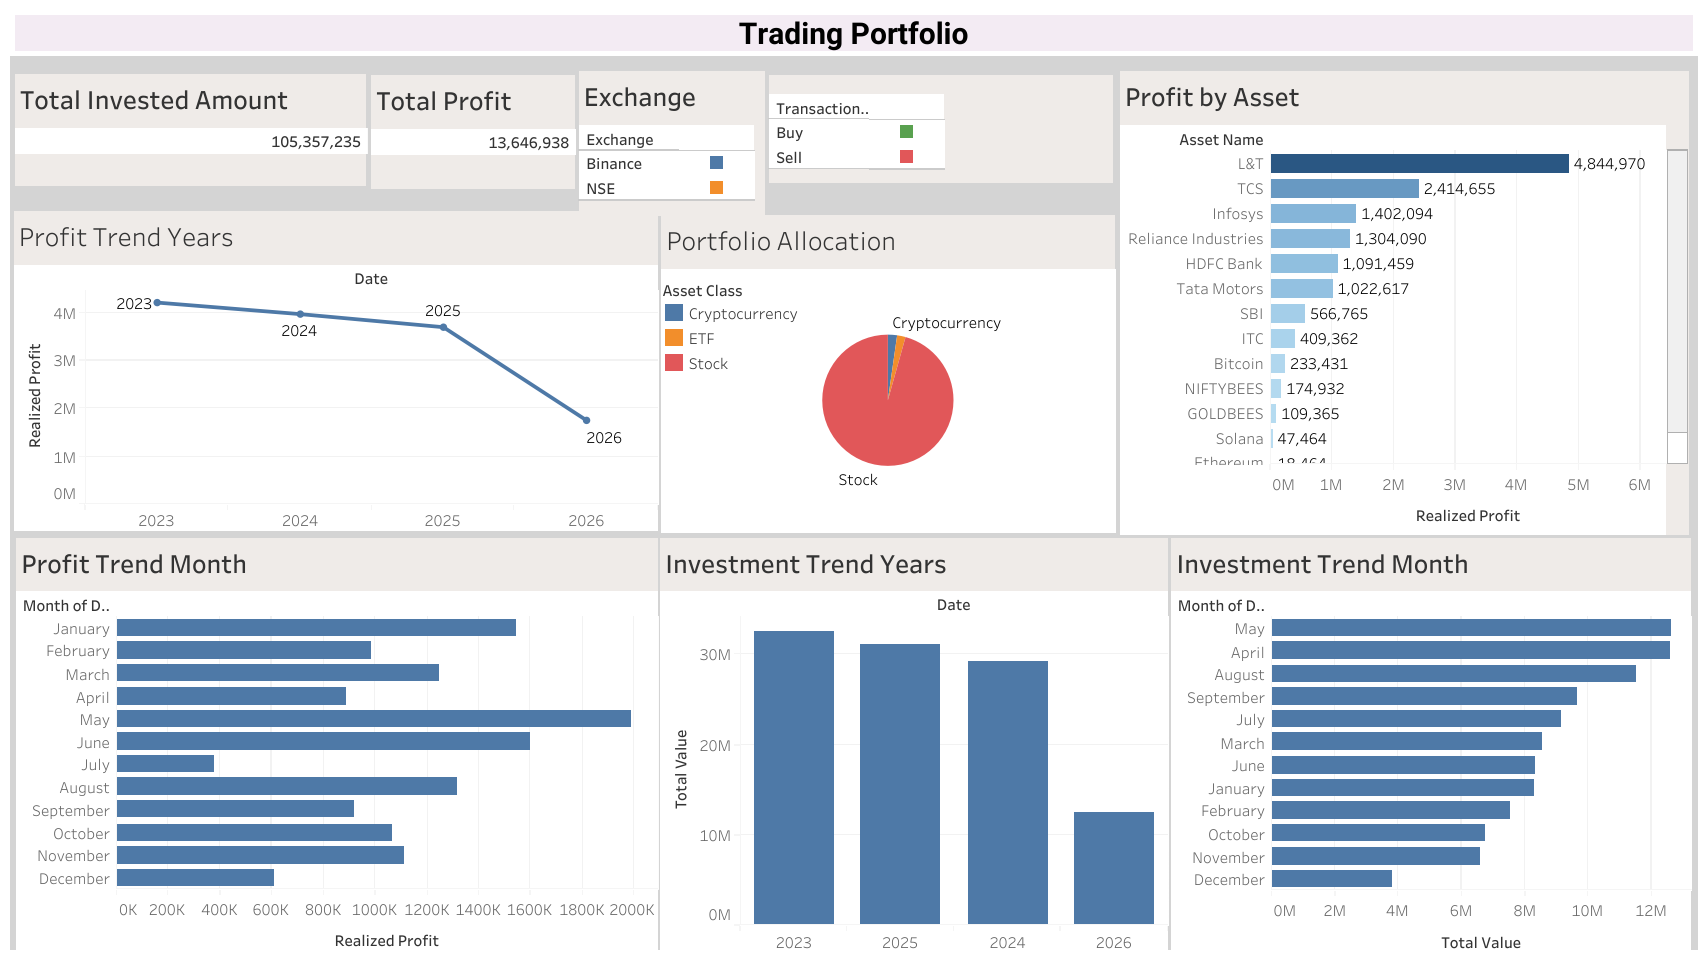

Layout of this report page (visuals, bound fields, positions):
{"tool":"tableau","page":{"name":"Dashboard 1","canvas":[1366,768],"ordinal":0},"visuals":[{"type":"title","box":[8,8,1350,48]},{"type":"worksheet","title":"Exchange","mark":"Automatic","rows":["Exchange"],"box":[463,57,149,116]},{"type":"worksheet","title":"Profit by Asset","mark":"Automatic","rows":["Asset_Name"],"cols":["Realized_Profit"],"box":[896,57,455,371]},{"type":"worksheet","title":"Total Invested Amount","mark":"Automatic","box":[12,59,281,90]},{"type":"worksheet","title":"Total Profit","mark":"Automatic","box":[297,60,163,91]},{"type":"worksheet","title":"Transaction_Type","mark":"Automatic","rows":["Transaction_Type"],"box":[615,60,275,86]},{"type":"worksheet","title":"Profit Trend Years","mark":"Line","rows":["Realized_Profit"],"cols":["Date"],"box":[11,169,515,256]},{"type":"worksheet","title":"Portfolio Allocation ","mark":"Pie","box":[529,172,363,253]},{"type":"legend","title":"Portfolio Allocation ","param":"[federated.1r0cp5106kchey1cx99gc0m8i7sm].[none:Asset_Class:nk]","box":[529,221,143,90]},{"type":"worksheet","title":"Profit Trend Month","mark":"Bar","rows":["Date"],"cols":["Realized_Profit"],"box":[13.2,429.9,512.8,338.1]},{"type":"worksheet","title":"Investment Trend Years","mark":"Bar","rows":["Total_Value"],"cols":["Date"],"box":[528.4,429.9,405.6,332.2]},{"type":"worksheet","title":"Investment Trend Month","mark":"Bar","rows":["Date"],"cols":["Total_Value"],"box":[936.5,429.9,416.3,338.9]}]}

Visuals, with their boxes in screenshot pixels (x1, y1, x2, y2), scaled from the page's 1366x768 canvas onto the 1706x959 screenshot:
title: (10, 10, 1696, 70)
"Exchange" worksheet: (578, 71, 764, 216)
"Profit by Asset" worksheet: (1119, 71, 1687, 534)
"Total Invested Amount" worksheet: (15, 74, 366, 186)
"Total Profit" worksheet: (371, 75, 574, 189)
"Transaction_Type" worksheet: (768, 75, 1112, 182)
"Profit Trend Years" worksheet (Line marks): (14, 211, 657, 531)
"Portfolio Allocation " worksheet (Pie marks): (661, 215, 1114, 531)
"Portfolio Allocation " legend: (661, 276, 839, 388)
"Profit Trend Month" worksheet (Bar marks): (16, 537, 657, 958)
"Investment Trend Years" worksheet (Bar marks): (660, 537, 1166, 952)
"Investment Trend Month" worksheet (Bar marks): (1170, 537, 1690, 958)
